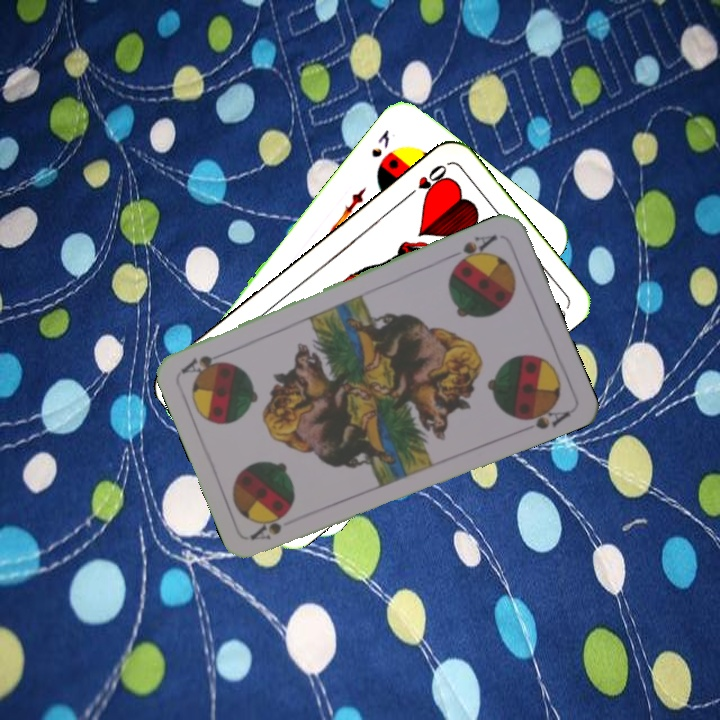HO: (401, 160, 450, 202)
SA: (446, 230, 500, 269), (247, 510, 291, 543)
SK: (367, 125, 393, 160)
